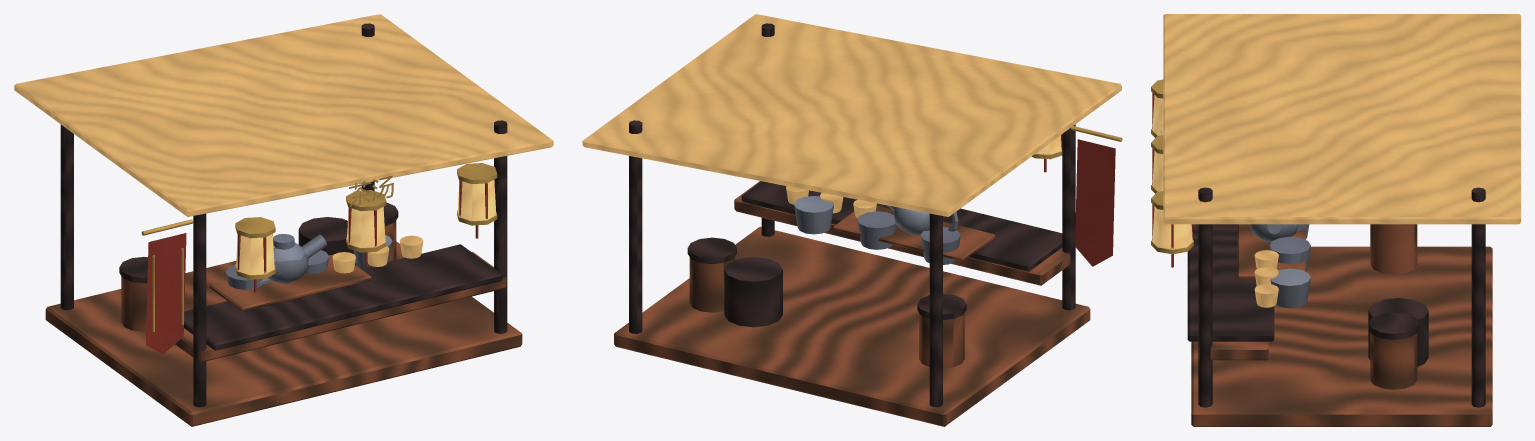
Rendered from model-stall-tea.glb.
3 renders of one model, left to right at view 1: azimuth 30°, elevation 25°; view 2: azimuth 150°, elevation 25°; view 3: azimuth 270°, elevation 25°, orthographic. The views are drawn at different scales.
Parts seen in each view (by area): view 1: model-stall-tea, Sign_茶汤; view 2: model-stall-tea; view 3: model-stall-tea.
Boxes of the visible parts, bbox=[...] form: model-stall-tea: bbox=[14, 14, 553, 426]; Sign_茶汤: bbox=[349, 175, 393, 206]; model-stall-tea: bbox=[582, 14, 1122, 426]; model-stall-tea: bbox=[1151, 14, 1520, 426].
Size of the model in its own units: 4.92 by 2.8 by 3.93.
Materials: 7 (7 with a texture image).
